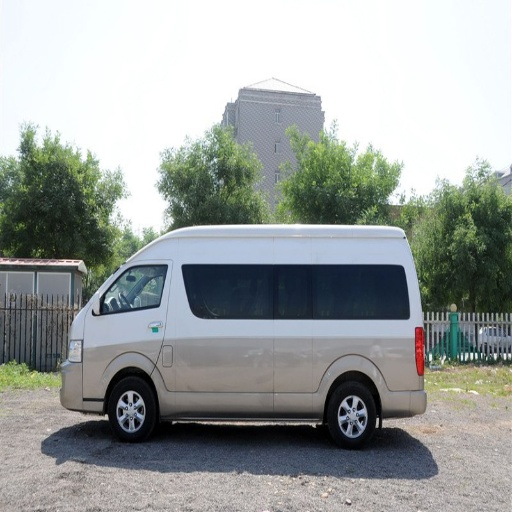trunk: (296, 322, 423, 419)
